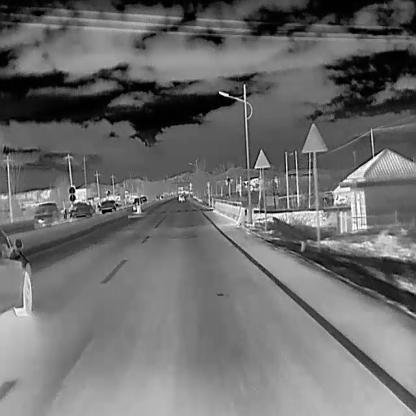car: (0, 224, 31, 317), (32, 202, 60, 229), (70, 203, 92, 220), (98, 199, 118, 213), (132, 195, 147, 210), (178, 194, 184, 202)
